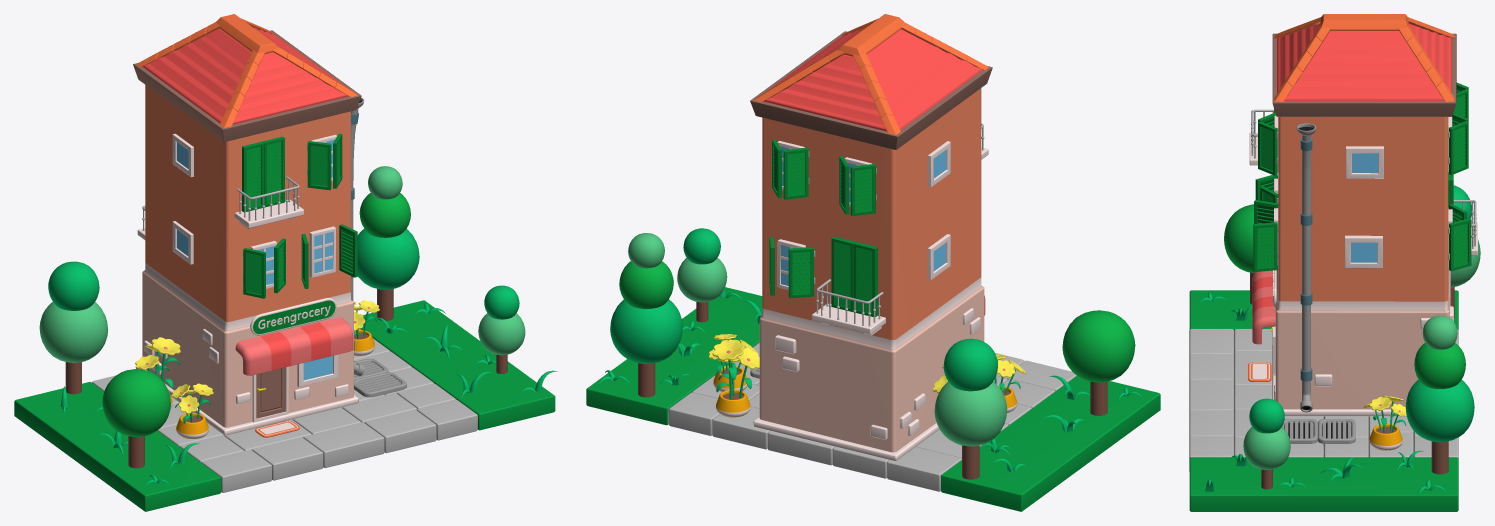
Rendered from City_Island_10.glb.
3 renders of one model, left to right at view 1: azimuth 30°, elevation 25°; view 2: azimuth 150°, elevation 25°; view 3: azimuth 270°, elevation 25°, orthographic. The views are drawn at different scales.
Parts seen in each view (by area): view 1: City_10_House_1, City_10_Base_1, City_10_Base_3, City_10_Base_2, City_10_Tree_3, City_10_Tree_2, City_10_Tree_1, City_10_Tree_4, City_10_Greengrocery_Sign_1, City_10_Flower_4, City_10_Flower_3, City_10_Drain_hatch_1 (+2 smaller); view 2: City_10_House_1, City_10_Base_3, City_10_Base_1, City_10_Base_2, City_10_Tree_3, City_10_Tree_2, City_10_Tree_1, City_10_Tree_4, City_10_Flower_1, City_10_Flower_2, City_10_Flower_4; view 3: City_10_House_1, City_10_Base_2, City_10_Base_1, City_10_Tree_3, City_10_Drain_pipe_1, City_10_Tree_4, City_10_Base_3, City_10_Tree_1, City_10_Flower_2, City_10_Tree_2, City_10_Drain_hatch_2, City_10_Drain_hatch_1 (+1 smaller).
Part boxes in pixels (box(x1,y1,x2,y2)): City_10_House_1: box(133, 14, 361, 435); City_10_Base_1: box(92, 329, 477, 492); City_10_Base_3: box(14, 382, 221, 511); City_10_Base_2: box(361, 300, 555, 430); City_10_Tree_3: box(357, 166, 419, 320); City_10_Tree_2: box(39, 261, 107, 394); City_10_Tree_1: box(102, 369, 170, 468); City_10_Tree_4: box(478, 285, 525, 373); City_10_Greengrocery_Sign_1: box(250, 298, 336, 335); City_10_Flower_4: box(171, 383, 213, 438); City_10_Flower_3: box(135, 337, 180, 407); City_10_Drain_hatch_1: box(354, 372, 406, 397); City_10_House_1: box(750, 14, 992, 461); City_10_Base_3: box(941, 376, 1160, 511); City_10_Base_1: box(668, 342, 1076, 491); City_10_Base_2: box(586, 287, 762, 425); City_10_Tree_3: box(610, 233, 682, 397); City_10_Tree_2: box(934, 338, 1007, 479); City_10_Tree_1: box(1062, 310, 1135, 415); City_10_Tree_4: box(677, 228, 727, 322); City_10_Flower_1: box(712, 339, 759, 417); City_10_Flower_2: box(709, 334, 756, 391); City_10_Flower_4: box(994, 354, 1026, 412); City_10_House_1: box(1249, 14, 1477, 416); City_10_Base_2: box(1189, 457, 1458, 511); City_10_Base_1: box(1189, 329, 1458, 471); City_10_Tree_3: box(1405, 315, 1474, 474); City_10_Drain_pipe_1: box(1296, 123, 1316, 412); City_10_Tree_4: box(1243, 398, 1290, 489); City_10_Base_3: box(1189, 290, 1458, 329); City_10_Tree_1: box(1224, 204, 1254, 304); City_10_Flower_2: box(1363, 395, 1406, 450); City_10_Tree_2: box(1451, 185, 1480, 317); City_10_Drain_hatch_2: box(1318, 419, 1355, 444); City_10_Drain_hatch_1: box(1282, 419, 1317, 443).
Size of the model in its own units: 16.36 by 13.74 by 9.45.
Materials: 28 (28 with a texture image).
